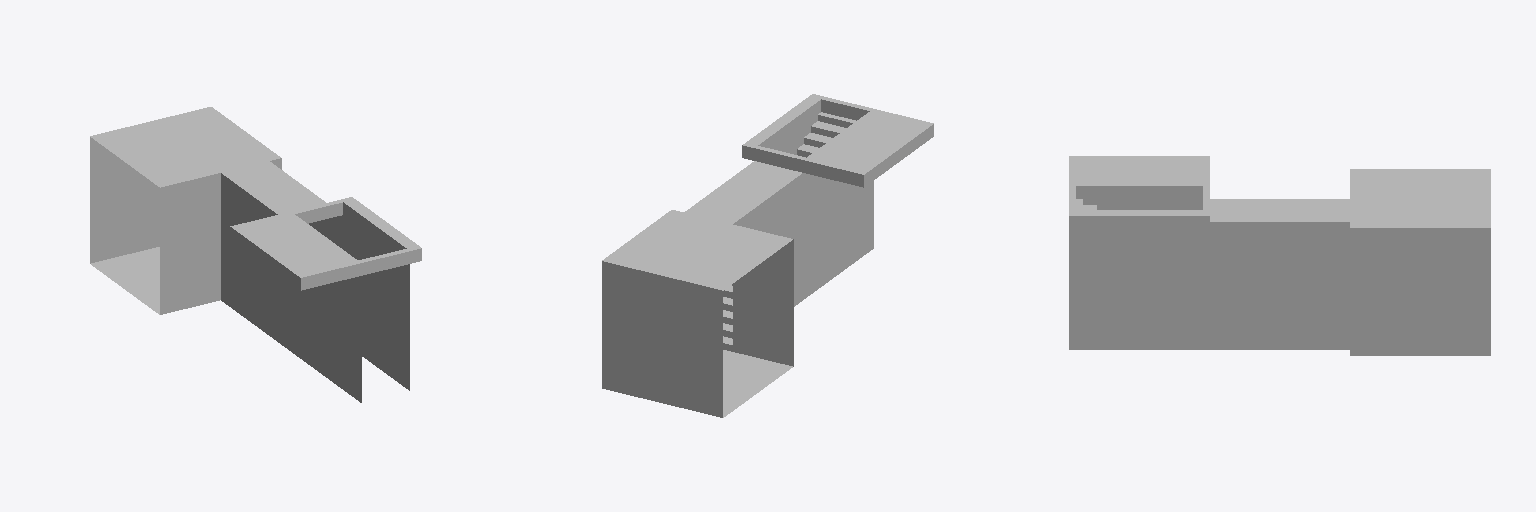
The picture shows the model from 3 angles: view 1: azimuth 30°, elevation 25°; view 2: azimuth 150°, elevation 25°; view 3: azimuth 270°, elevation 25°; orthographic projection.
Visible parts, largest first — view 1: objobjobjDuplicate05; view 2: objobjobjDuplicate05; view 3: objobjobjDuplicate05.
Boxes of the visible parts, box(x1,y1,x2,y2) form: objobjobjDuplicate05: box(90, 107, 421, 402); objobjobjDuplicate05: box(602, 94, 933, 417); objobjobjDuplicate05: box(1069, 156, 1490, 355).
Size of the model in its own units: 10 by 11 by 30.